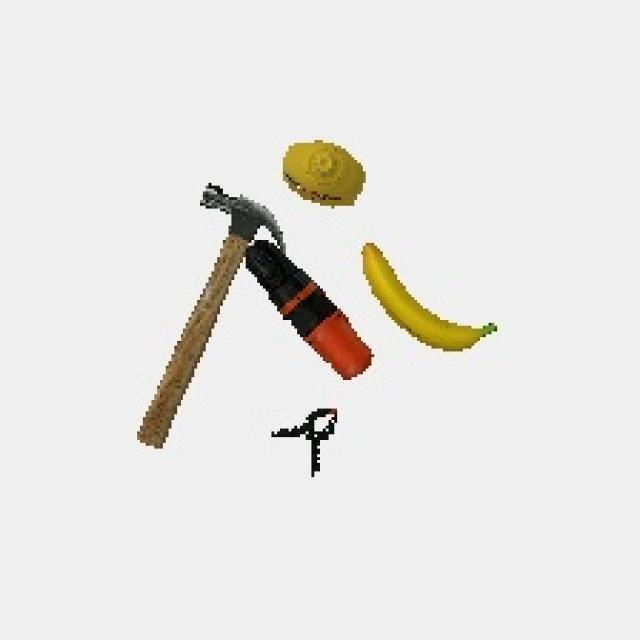MediumClamp: (267, 401, 356, 482)
MustardBottle: (276, 131, 380, 213)
